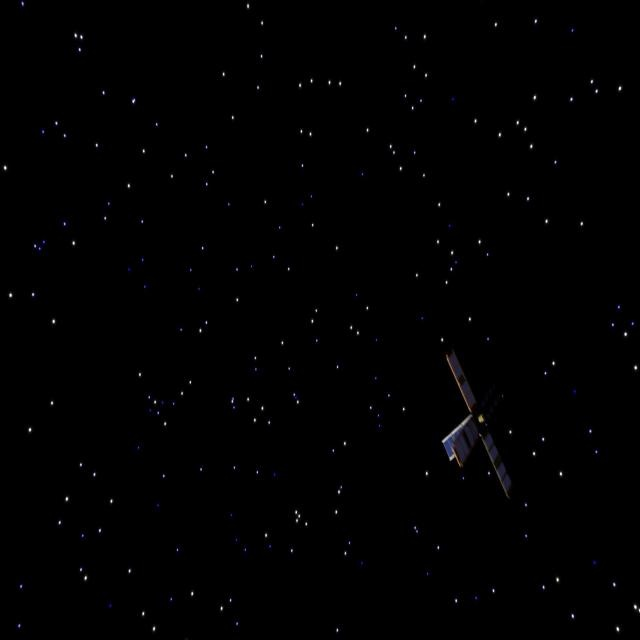medium_debris: (441, 338, 521, 506)
